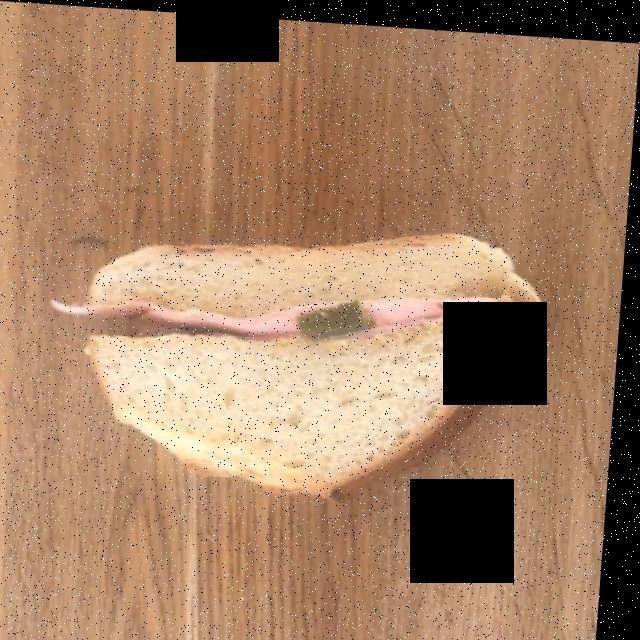ham: (63, 278, 464, 327)
